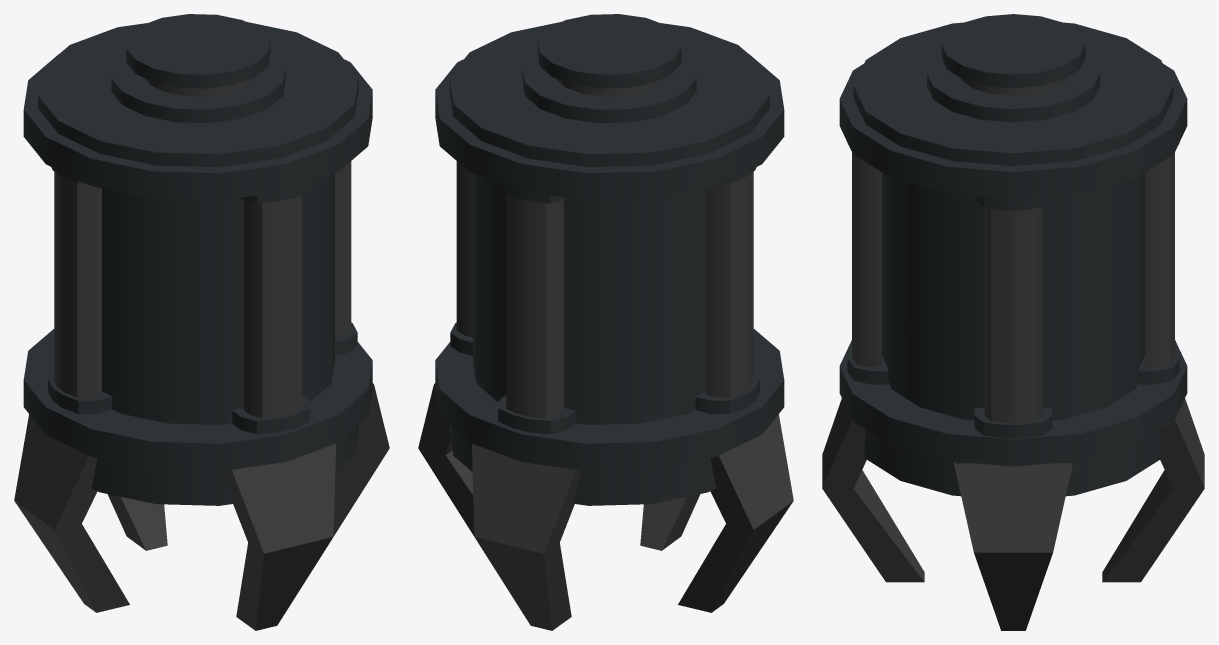
The model's file is JarOfSouls.fbx.
3 views of the same model, side by side, from view 1: azimuth 30°, elevation 25°; view 2: azimuth 150°, elevation 25°; view 3: azimuth 270°, elevation 25° (orthographic).
Visible parts, largest first — view 1: Jar, Glass; view 2: Jar, Glass; view 3: Jar, Glass.
Part boxes in pixels (left/top/right/bottom): Jar: left=14, top=14, right=389, bottom=630; Glass: left=102, top=173, right=334, bottom=424; Jar: left=418, top=14, right=793, bottom=630; Glass: left=473, top=173, right=705, bottom=424; Jar: left=822, top=14, right=1204, bottom=630; Glass: left=882, top=172, right=1144, bottom=420.
Size of the model in its own units: 286 by 438 by 286.
